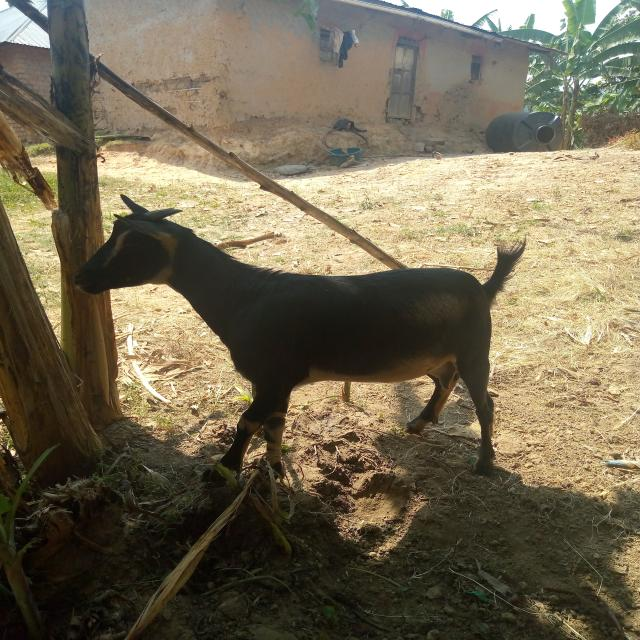goat: (50, 133, 592, 554)
